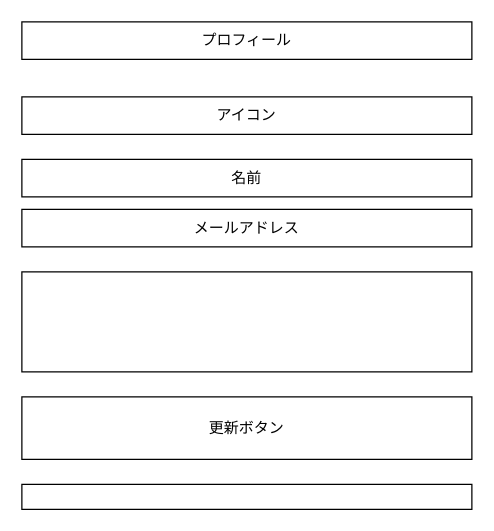
Some shapes in this 494 by 531 pixel diagram are drawn without their labels. Each missing label, with the centre of its shape:
キャンセル: the point at 246,496
自己紹介: the point at 246,321
